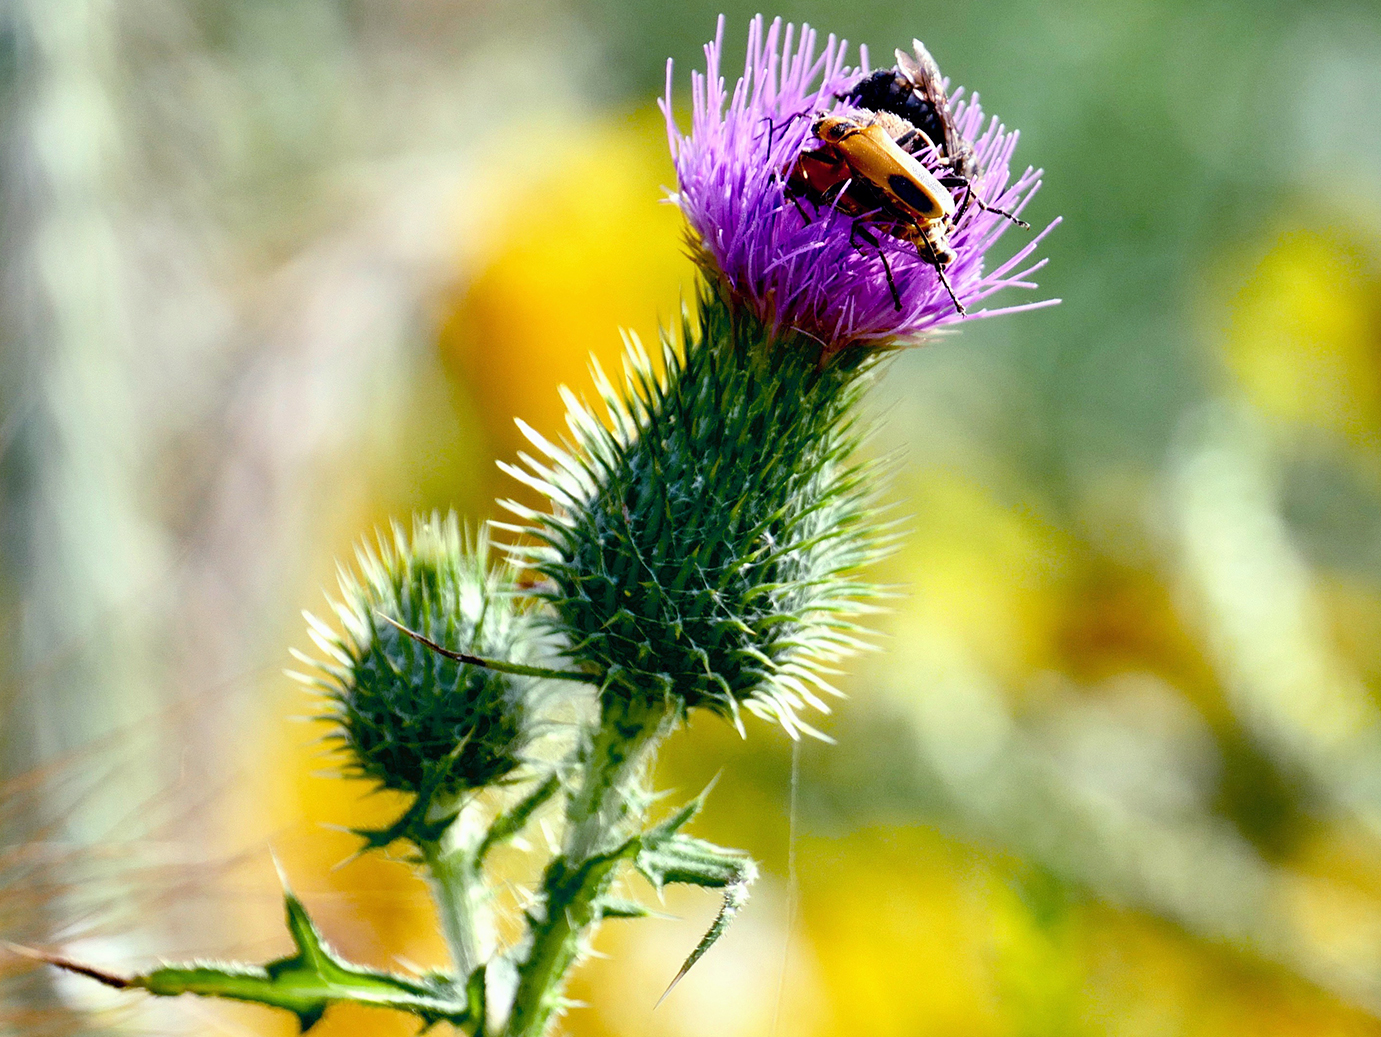bull thistle: (477, 9, 1072, 755)
